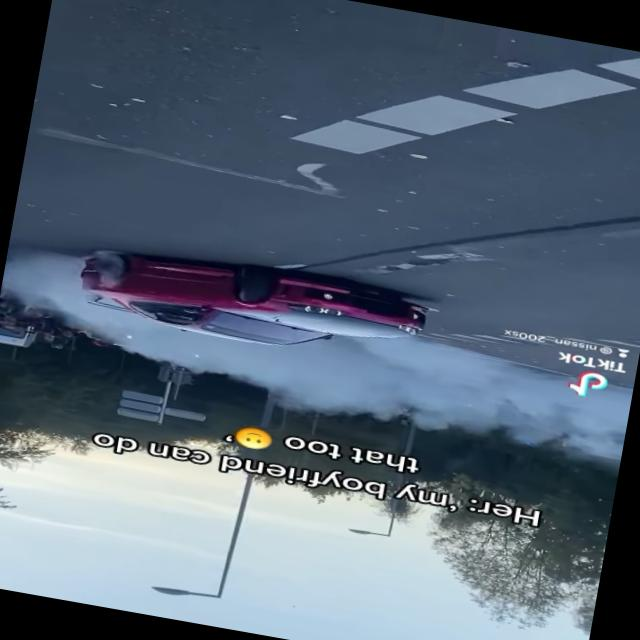car: (69, 232, 427, 372)
